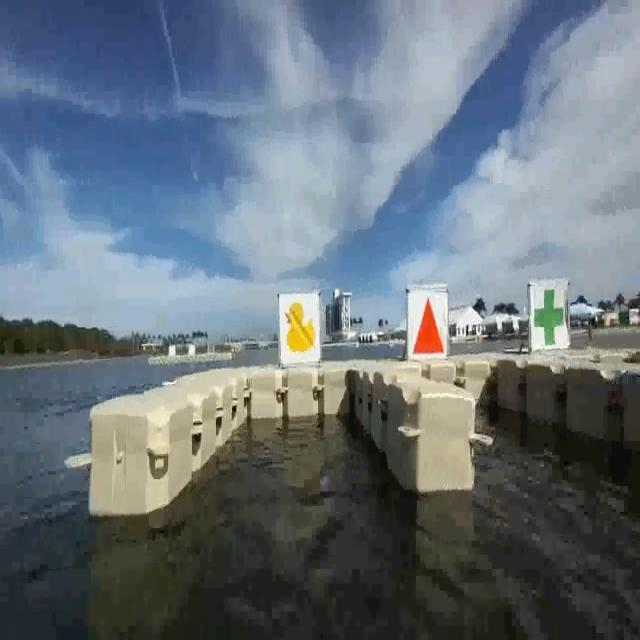blue-cross: (531, 282, 570, 354)
red-dot: (410, 289, 448, 361)
yellow-duck: (281, 296, 320, 363)
